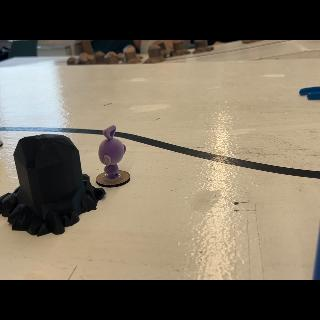teletubby: (98, 126, 126, 179)
